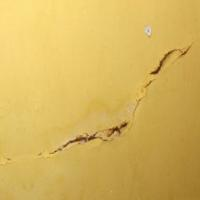crack: (39, 33, 196, 171)
